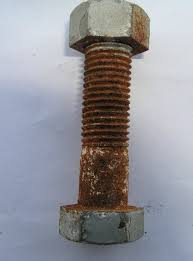rust: (77, 45, 135, 218), (61, 199, 144, 219), (131, 9, 150, 52)
